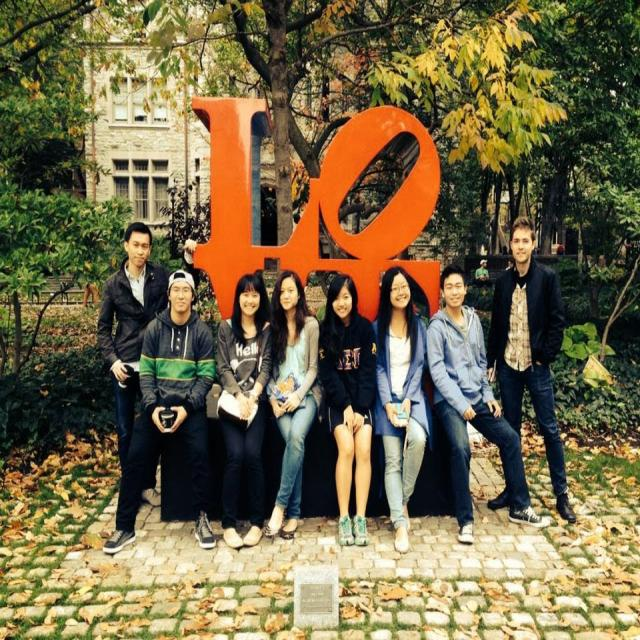body: (424, 261, 552, 546), (100, 268, 217, 556), (485, 214, 579, 526), (95, 220, 175, 509), (368, 263, 431, 556), (316, 270, 380, 550), (262, 268, 324, 541), (215, 272, 273, 551), (469, 239, 633, 290)
